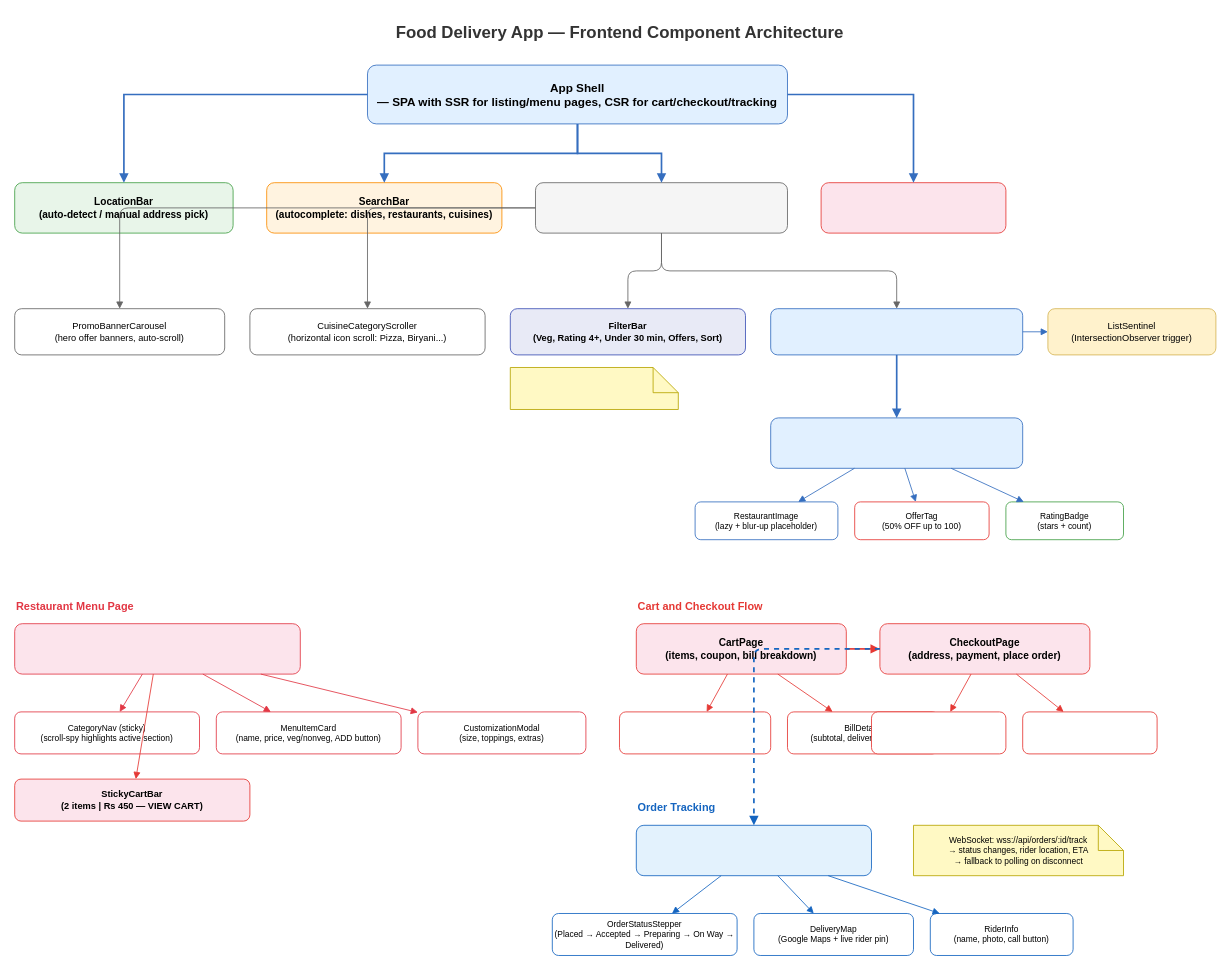
The diagram is 1231 pixels wide and 970 high, and some of its shapes have lost their labels. Here are the shapes that lost their labels. From the top down, the box of each, then its label:
(535, 182, 788, 233): HomePage (banners + categories + restaurant listing)
(820, 182, 1006, 233): CartIcon (header badge with count)
(770, 308, 1023, 355): RestaurantList (infinite scroll grid with IntersectionObserver)
(509, 367, 678, 410): Filters sync with URL params for shareability and back/forward nav
(770, 417, 1023, 468): RestaurantCard (image, name, cuisines, rating, delivery time, offers)
(14, 623, 300, 674): RestaurantMenuPage (SSR + CSR, category nav, add-to-cart)
(619, 711, 771, 754): CartItemList (qty stepper, customizations)
(871, 711, 1006, 754): AddressSelector (saved + new address)
(1022, 711, 1157, 754): PaymentSelector (UPI, Card, Wallet, COD)
(635, 824, 872, 876): OrderTrackingPage (WebSocket real-time updates)
